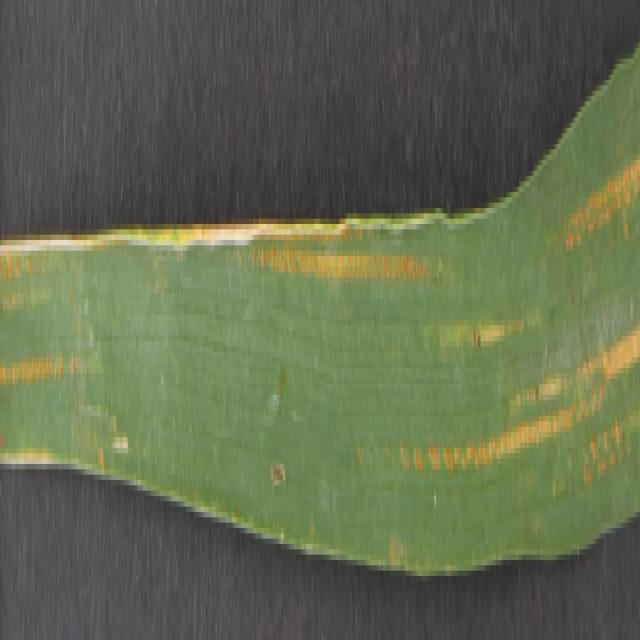leaf rust: (405, 341, 639, 528), (1, 235, 88, 464), (253, 224, 436, 331), (555, 139, 640, 320)
